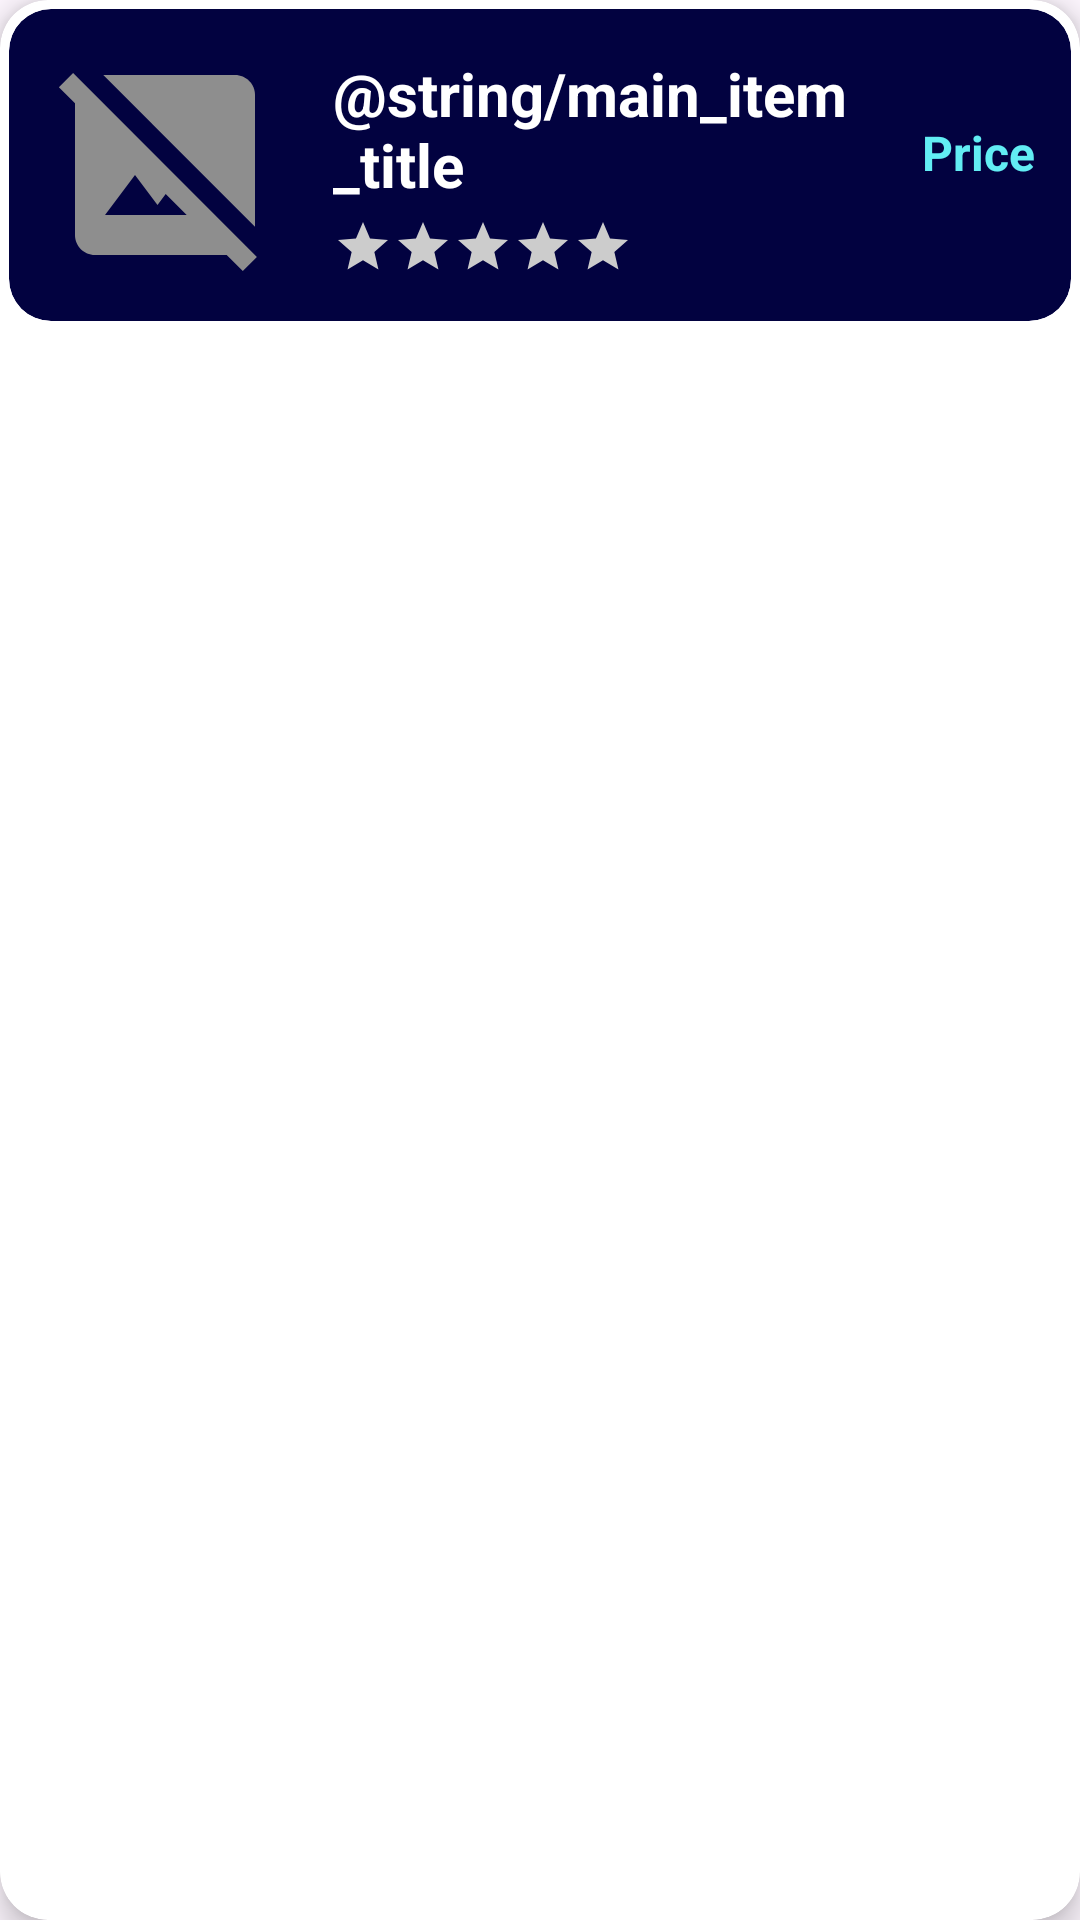

Icons on this 1080 x 1920 Android screen, each with the point to tap as (x=x, y=y):
star empty: (x=363, y=246), (x=423, y=246), (x=483, y=246), (x=543, y=246), (x=603, y=246)
